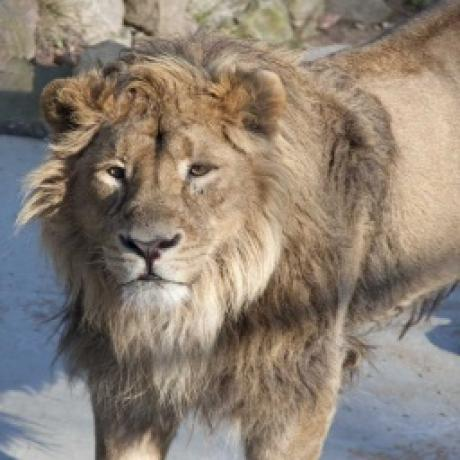Lion: (14, 0, 460, 460)
